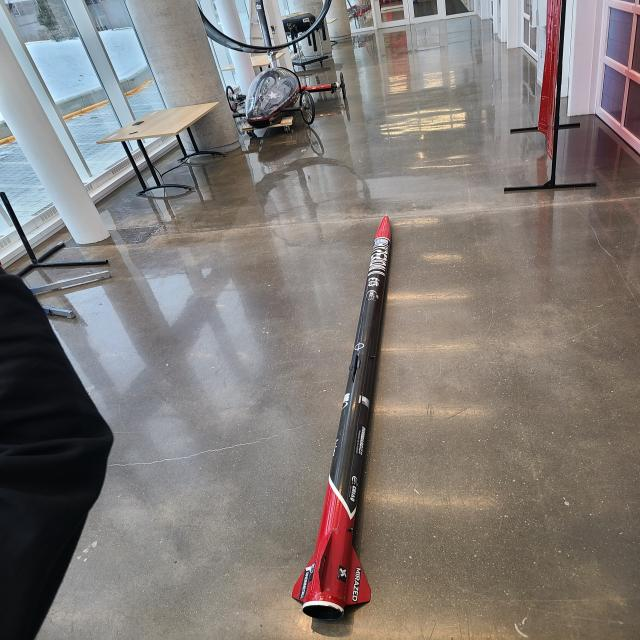Rocket: (291, 213, 393, 620)
